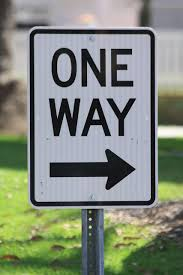oneWay: (26, 25, 163, 208)
